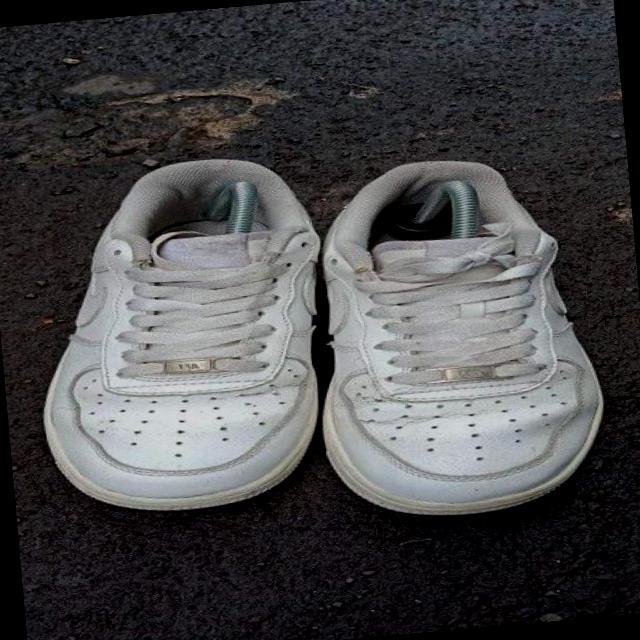nike_fake_airforce: (18, 145, 347, 521), (303, 152, 622, 532)
